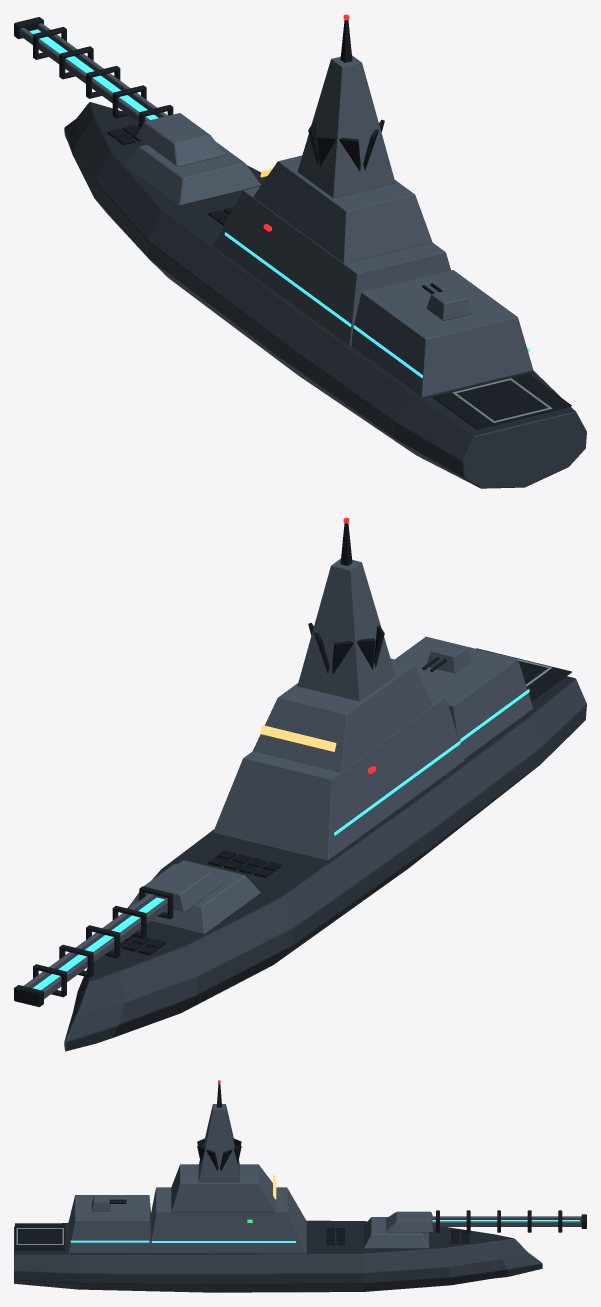
File: destroyer.glb
3 views of the same model, one above another, from view 1: azimuth 30°, elevation 25°; view 2: azimuth 150°, elevation 25°; view 3: azimuth 270°, elevation 25° (orthographic). The views are drawn at different scales.
Parts seen in each view (by area): view 1: Superstructure, Hull, Railgun, FlakGun; view 2: Superstructure, Hull, Railgun, FlakGun; view 3: Hull, Superstructure, Railgun, FlakGun.
Part boxes in pixels (x1,y1,x2,y2): Superstructure: [107, 14, 571, 429]; Hull: [64, 102, 586, 488]; Railgun: [14, 17, 260, 205]; FlakGun: [422, 283, 471, 320]; Superstructure: [120, 517, 571, 955]; Hull: [64, 676, 586, 1051]; Railgun: [14, 860, 260, 1007]; FlakGun: [422, 641, 471, 673]; Hull: [14, 1220, 542, 1292]; Superstructure: [15, 1080, 469, 1253]; Railgun: [364, 1210, 586, 1248]; FlakGun: [91, 1195, 126, 1211].
Bounding box in the file's own units: 4.69 × 10.4 × 26.22.
